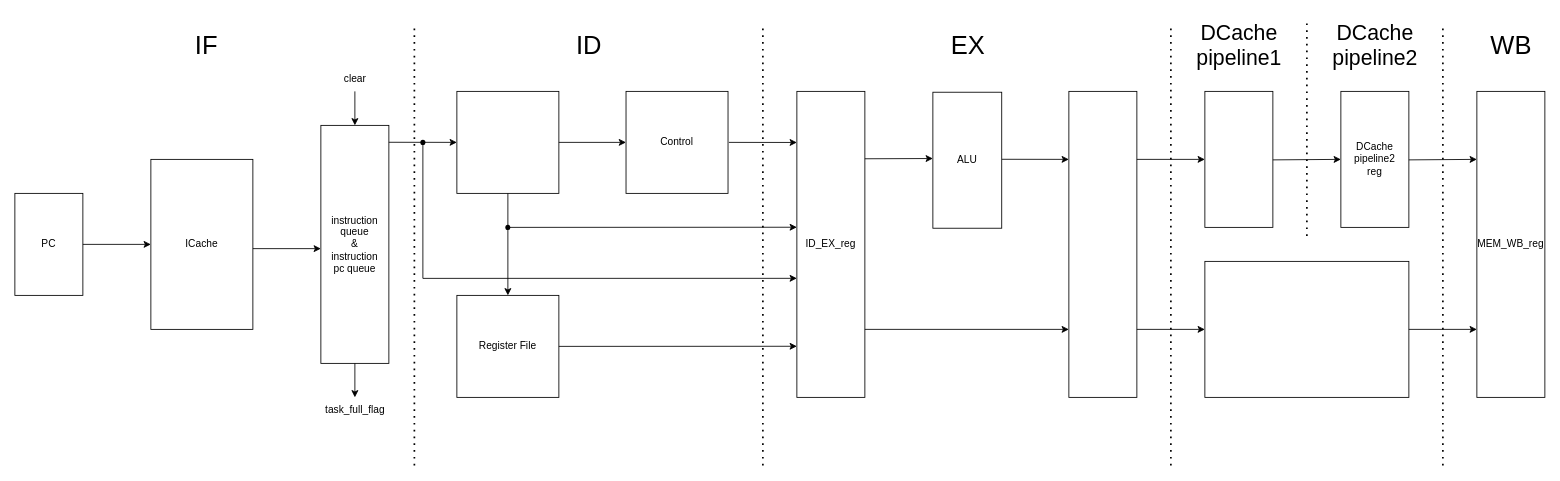
Image size: 1560x481. Some labels were removed from this diagram. Here are the shapes that lost their labels. From the top down, the box of each, then its label:
(456, 91, 559, 193): Decoder
(1204, 91, 1273, 227): DCache pipeline1 reg
(1068, 91, 1137, 397): EX_MEM_reg
(1204, 261, 1409, 397): DCache
